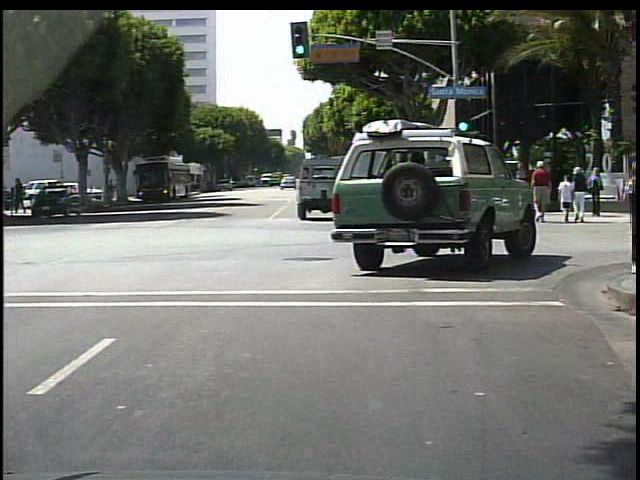person: (529, 161, 552, 225), (573, 166, 590, 224), (557, 173, 575, 223), (587, 166, 604, 218), (471, 169, 487, 216), (512, 162, 526, 215), (499, 168, 514, 215), (503, 165, 515, 212), (460, 166, 471, 216), (116, 177, 125, 205), (105, 178, 114, 201)
